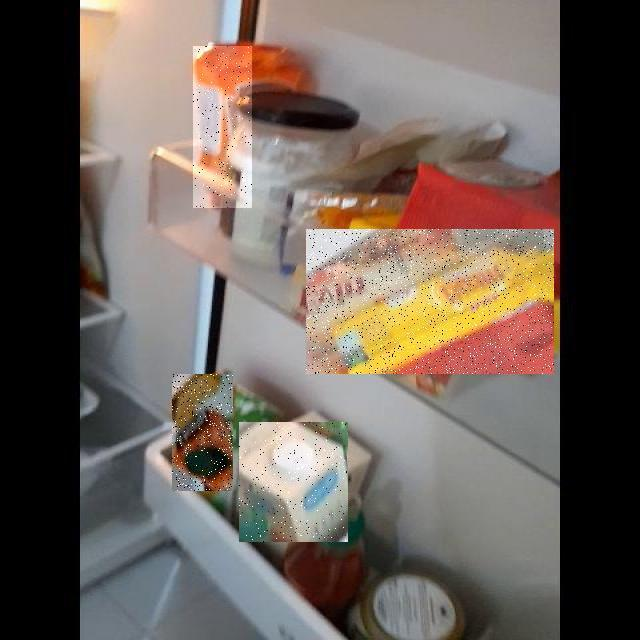Butter: (307, 229, 555, 374)
Juice: (172, 374, 233, 491)
Milk: (239, 422, 348, 542)
Sauce: (193, 46, 252, 208)
